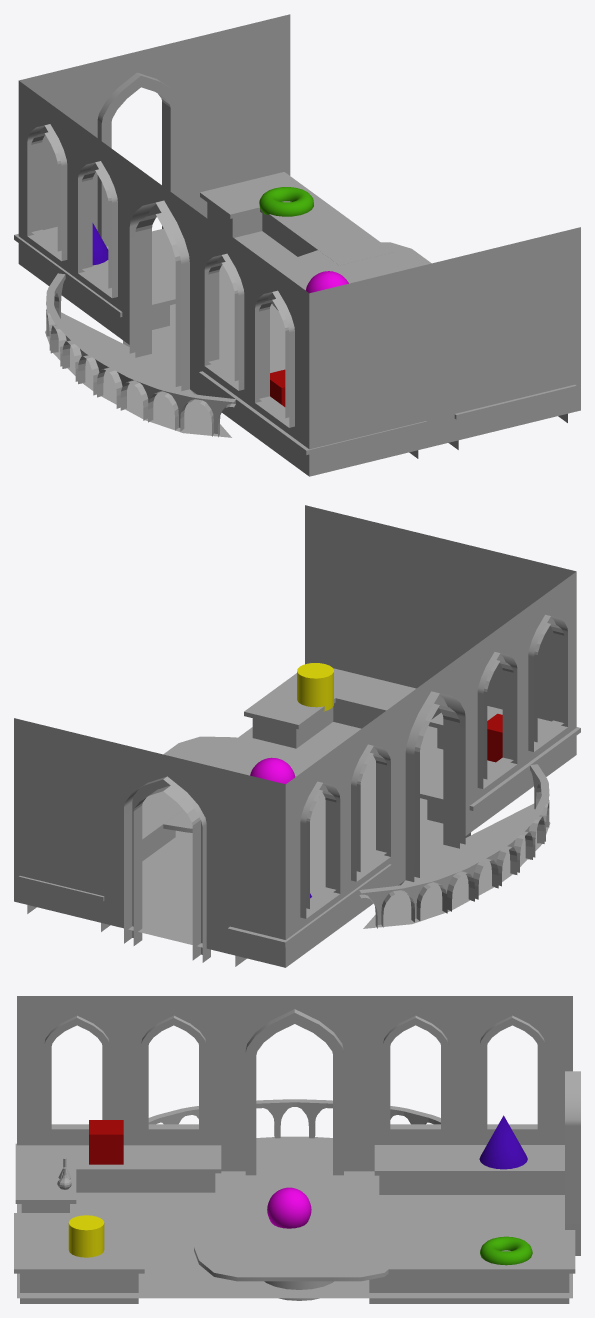
The model's file is Environment.fbx.
The picture shows the model from 3 angles, top to bottom: view 1: azimuth 30°, elevation 25°; view 2: azimuth 150°, elevation 25°; view 3: azimuth 270°, elevation 25°; orthographic projection. The views are drawn at different scales.
Parts seen in each view (by area): view 1: pCube24, pTorus1, pSphere1; view 2: pCube24, pCylinder4, pSphere1, pCube14; view 3: pCube24, pCube14, pCone1, pSphere1, pCylinder4, pTorus1.
Boxes of the visible parts, left/top/right/bottom form: pCube24: left=14, top=14, right=580, bottom=476; pTorus1: left=259, top=187, right=313, bottom=216; pSphere1: left=305, top=271, right=348, bottom=293; pCube24: left=14, top=505, right=580, bottom=967; pCylinder4: left=297, top=663, right=333, bottom=711; pSphere1: left=250, top=757, right=295, bottom=784; pCube14: left=487, top=713, right=502, bottom=762; pCube24: left=14, top=996, right=580, bottom=1303; pCube14: left=89, top=1120, right=123, bottom=1164; pCone1: left=479, top=1115, right=527, bottom=1169; pSphere1: left=267, top=1187, right=311, bottom=1228; pCylinder4: left=68, top=1215, right=104, bottom=1257; pTorus1: left=480, top=1236, right=532, bottom=1265.
Size of the model in its own units: 33.02 by 17 by 46.89.
